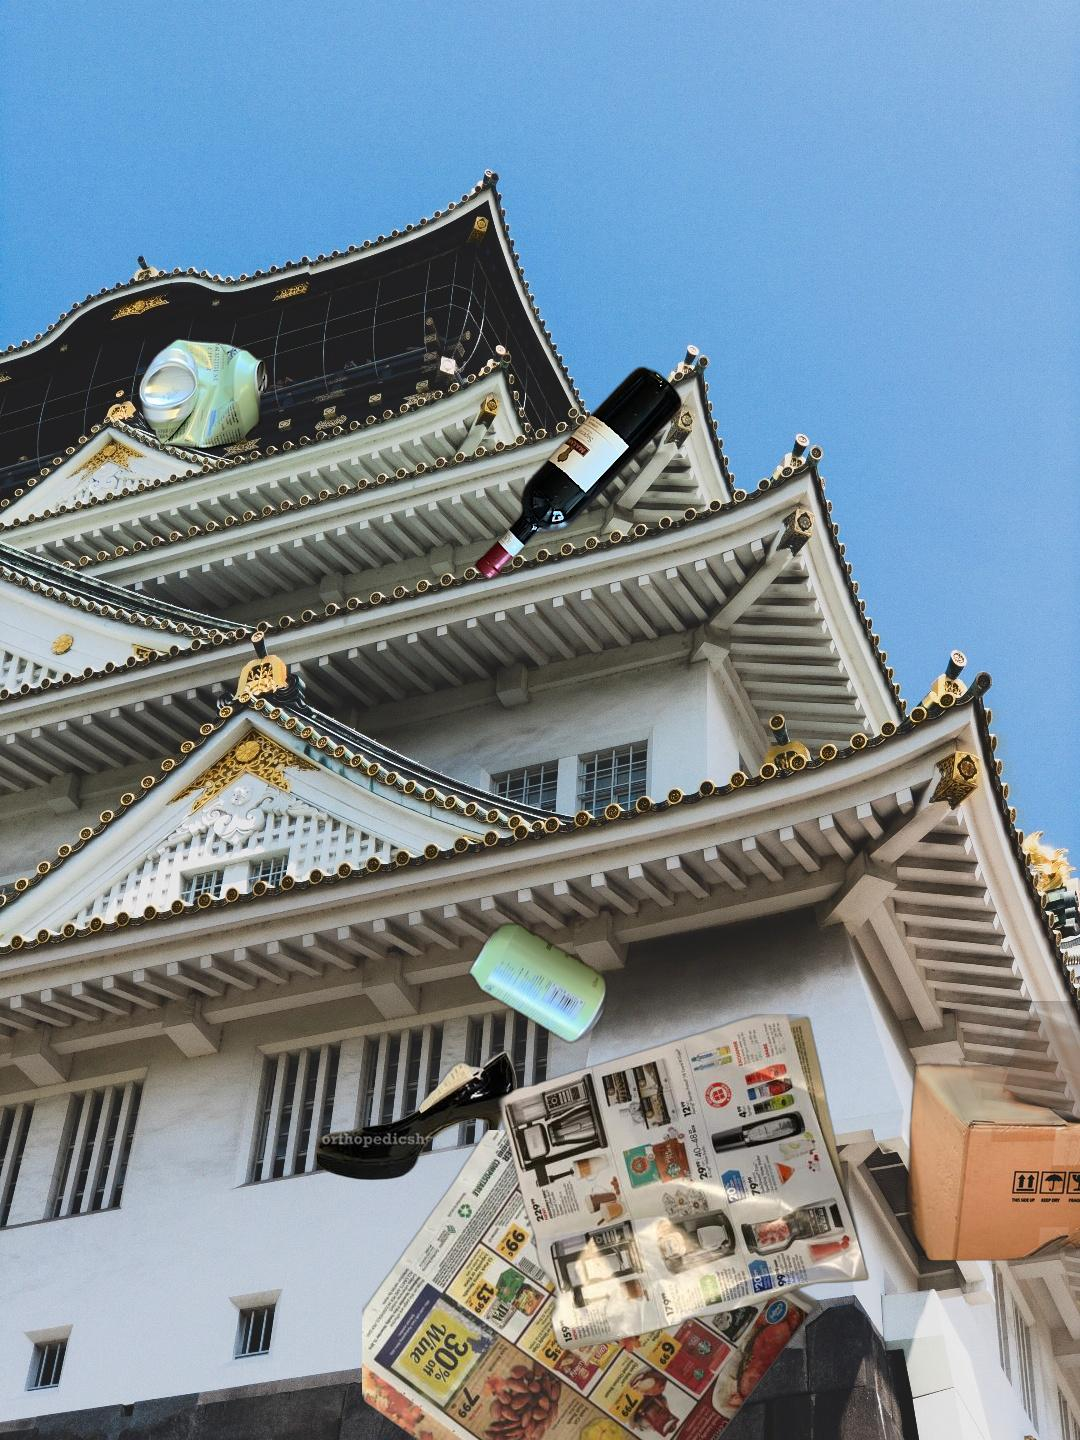glass: (471, 361, 686, 585)
metal-cans: (464, 918, 610, 1049), (134, 333, 272, 457)
paper: (362, 1130, 823, 1440), (494, 1014, 873, 1354)
shoes: (313, 1048, 520, 1183)
trashbox-cardboard: (812, 1001, 1080, 1264)
